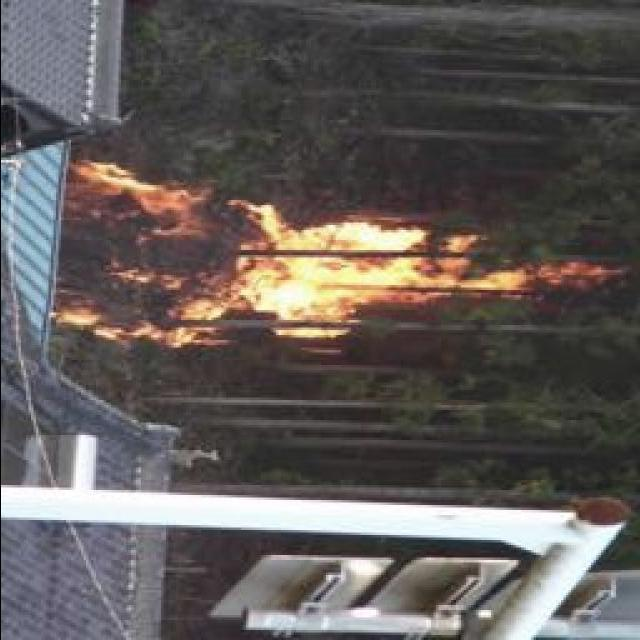Fire: (60, 164, 590, 344)
